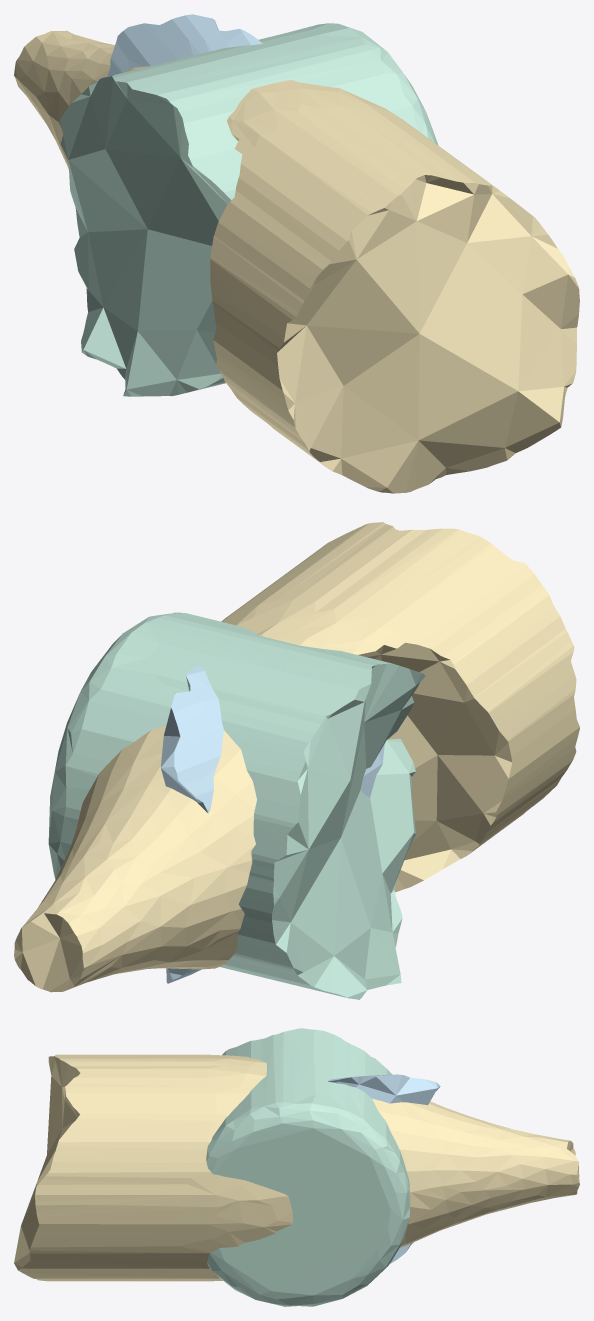
File: view_input_colored.glb
3 renders of one model, top to bottom at view 1: azimuth 30°, elevation 25°; view 2: azimuth 150°, elevation 25°; view 3: azimuth 270°, elevation 25°, orthographic. The views are drawn at different scales.
Visible parts, largest first — view 1: world; view 2: world; view 3: world.
Boxes of the visible parts, box(x1,y1,x2,y2) form: world: box(14, 14, 579, 493); world: box(14, 522, 579, 999); world: box(14, 1028, 579, 1306).
Size of the model in its own units: 0.3069 by 0.3077 by 0.7747.
